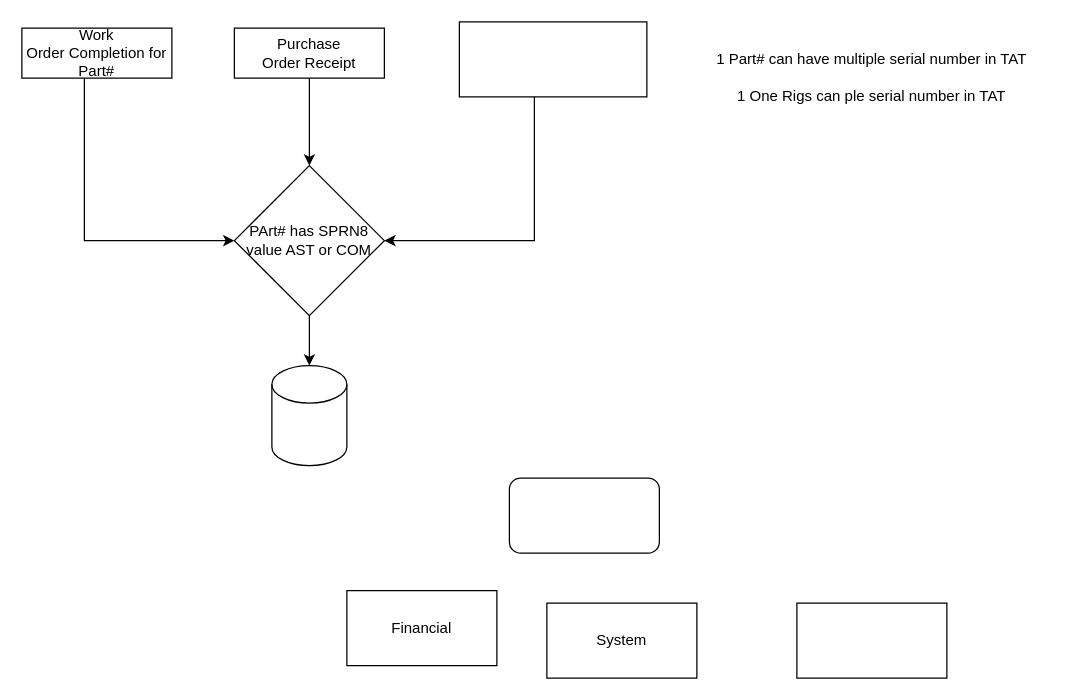
The diagram is 1069 pixels wide and 700 high, and some of its shapes have lost their labels. Here are the shapes that lost their labels. From the top down, the centre of each, then its label:
point (552, 59): Intercompany Purchase Receipt from non-Jde partners
point (309, 415): TAT DB
point (583, 515): Status
